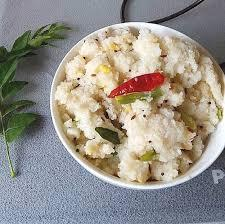upma: (57, 21, 225, 192)
